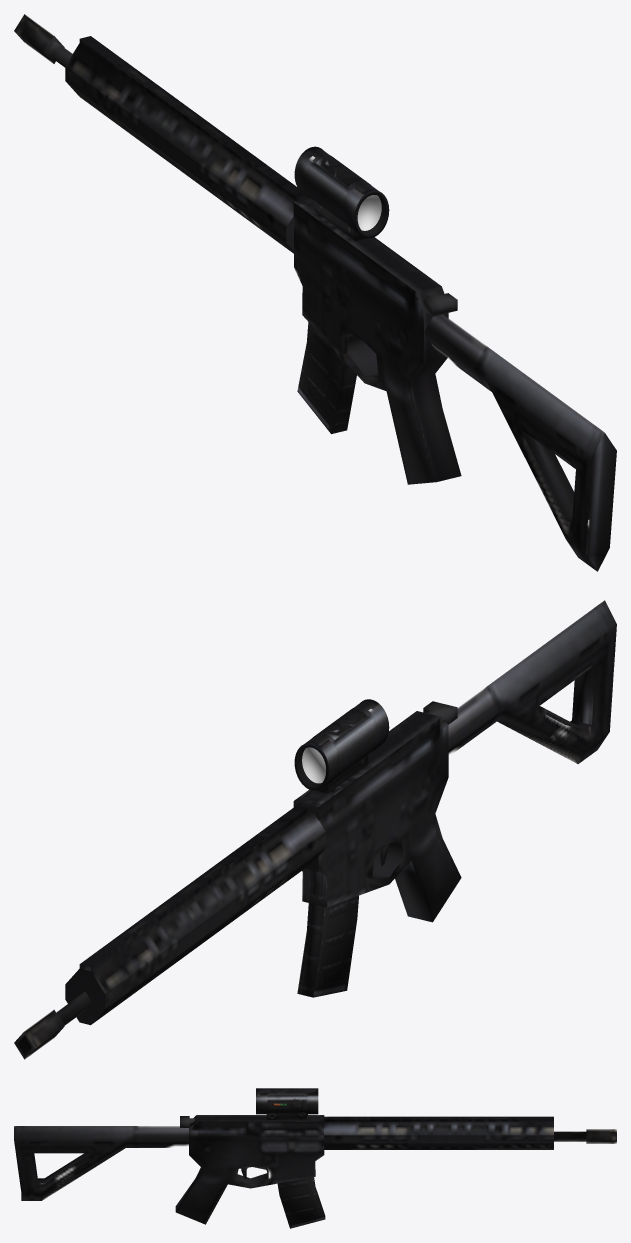
3 renders of one model, top to bottom at view 1: azimuth 30°, elevation 25°; view 2: azimuth 150°, elevation 25°; view 3: azimuth 270°, elevation 25°, orthographic. The views are drawn at different scales.
Parts seen in each view (by area): view 1: Cube.002; view 2: Cube.002; view 3: Cube.002.
Boxes of the visible parts, box(x1,y1,x2,y2) form: Cube.002: box(14, 14, 616, 571); Cube.002: box(14, 600, 616, 1059); Cube.002: box(14, 1088, 616, 1228).
Size of the model in its own units: 0.13 by 0.8268 by 3.28.
Materials: 2 (1 with a texture image).
